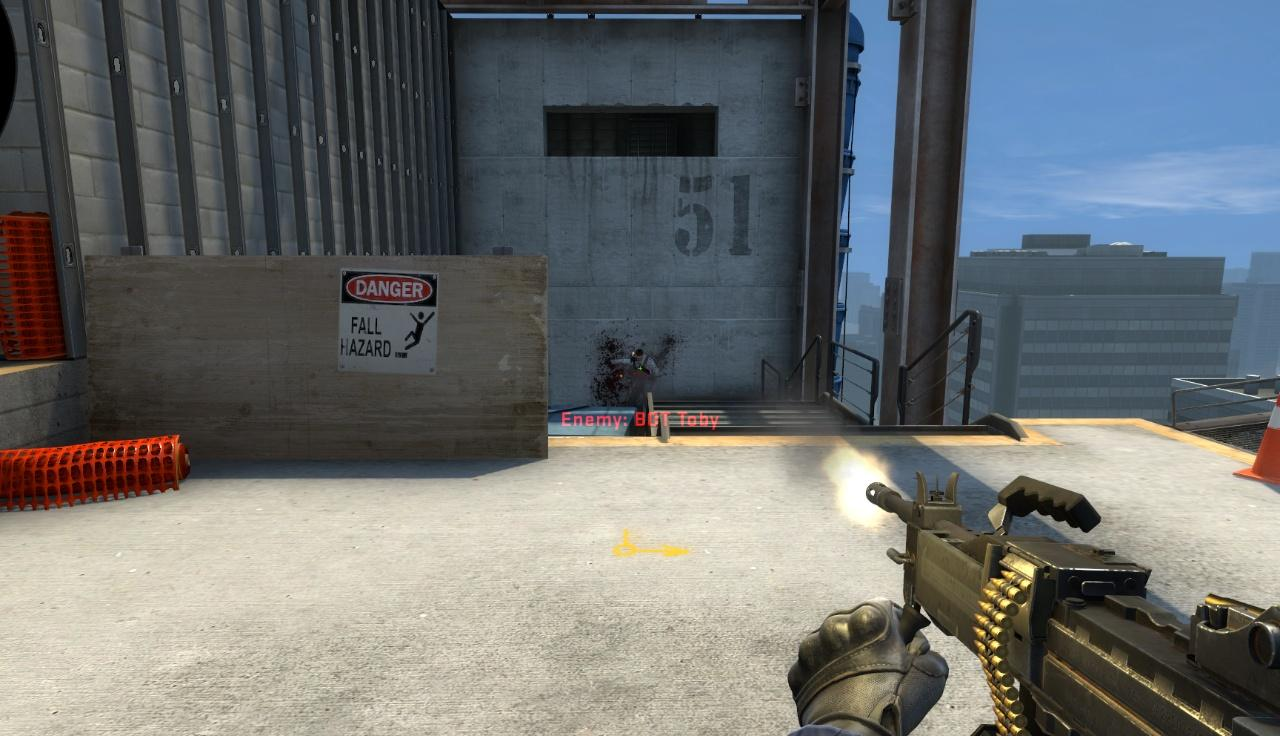rifle: (807, 464, 1277, 734)
tt: (627, 349, 656, 408)
tthead: (635, 350, 644, 362)
